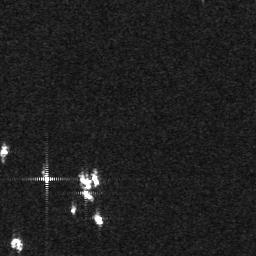ship: (77, 173, 92, 190), (93, 213, 105, 227), (91, 173, 101, 189), (82, 191, 93, 202)
